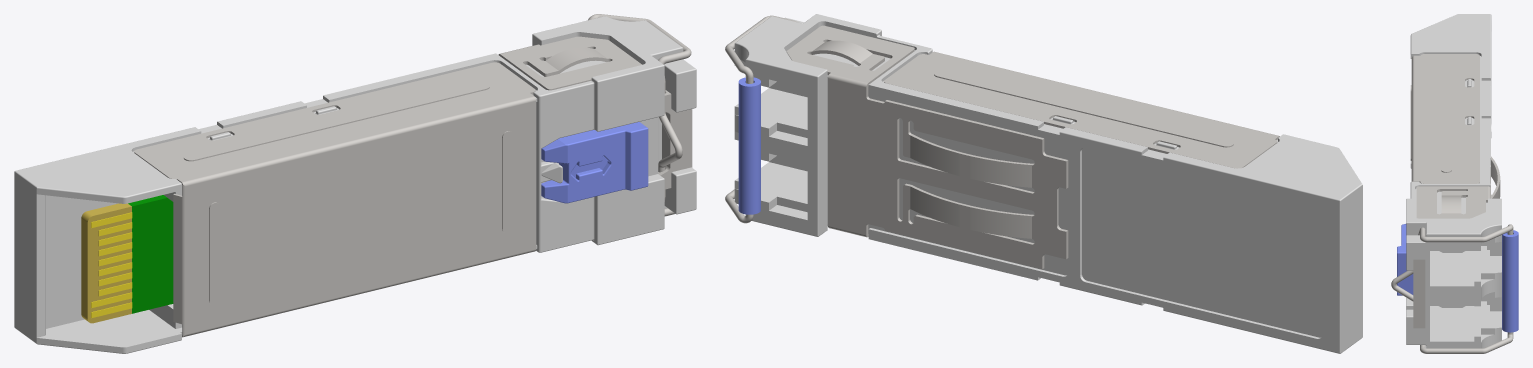
Rendered from Оптический модуль.glb.
3 views of the same model, side by side, from view 1: azimuth 30°, elevation 25°; view 2: azimuth 150°, elevation 25°; view 3: azimuth 270°, elevation 25° (orthographic). The views are drawn at different scales.
Parts seen in each view (by area): view 1: Subassembly_1; view 2: Subassembly_1; view 3: Subassembly_1.
Part boxes in pixels (x1=…): Subassembly_1: x1=14, y1=14, x2=696, y2=353; Subassembly_1: x1=725, y1=14, x2=1362, y2=353; Subassembly_1: x1=1391, y1=14, x2=1518, y2=353.
Size of the model in its own units: 57.2 by 14.63 by 13.68.
